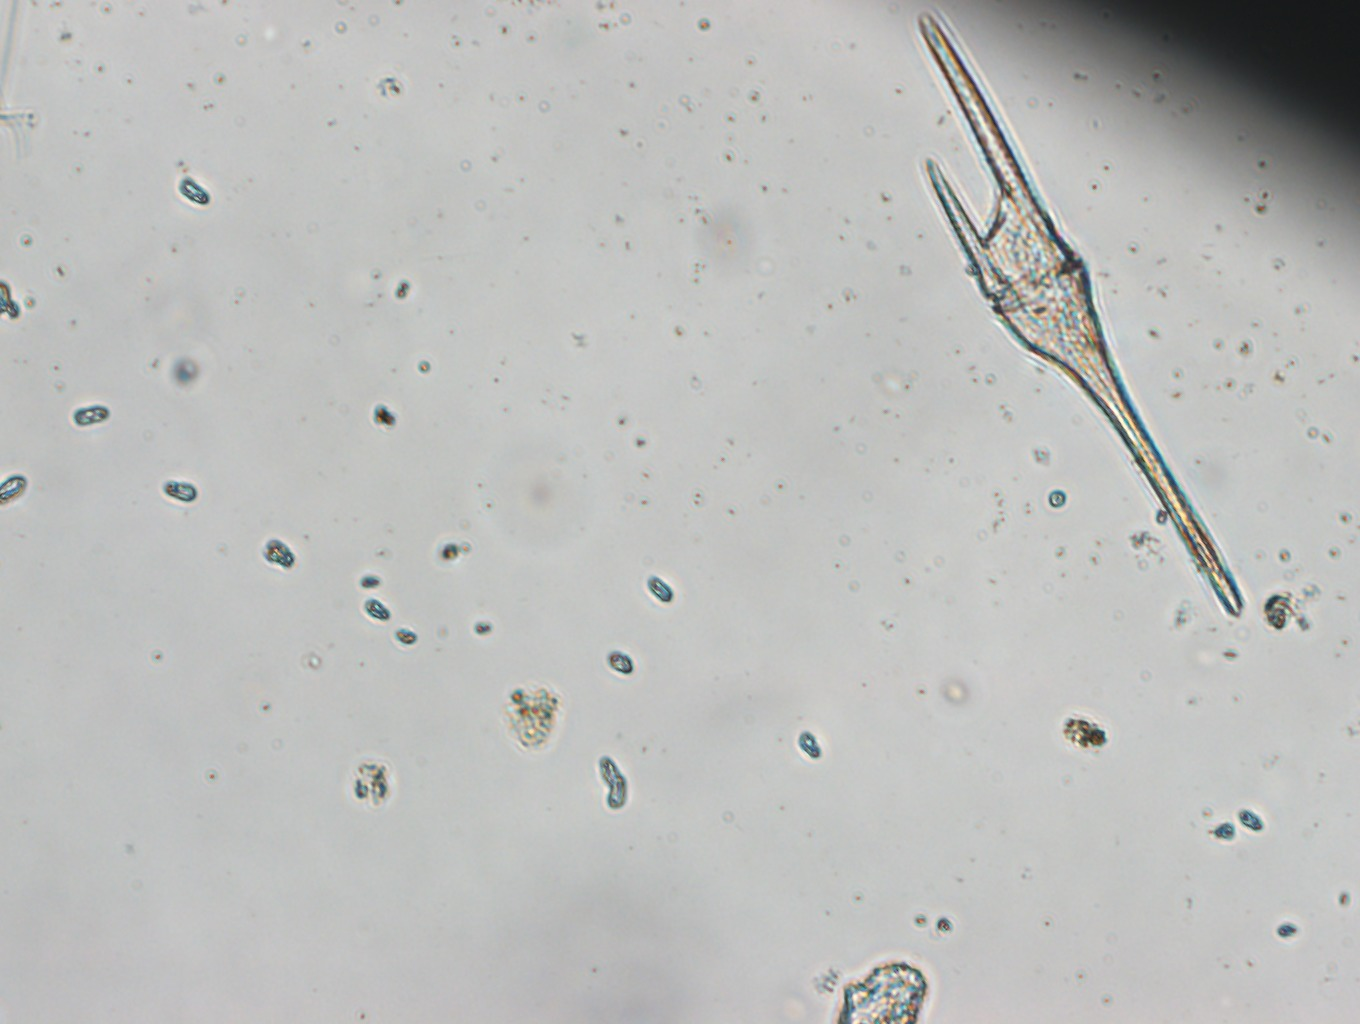ceratium furca: (913, 8, 1244, 615)
